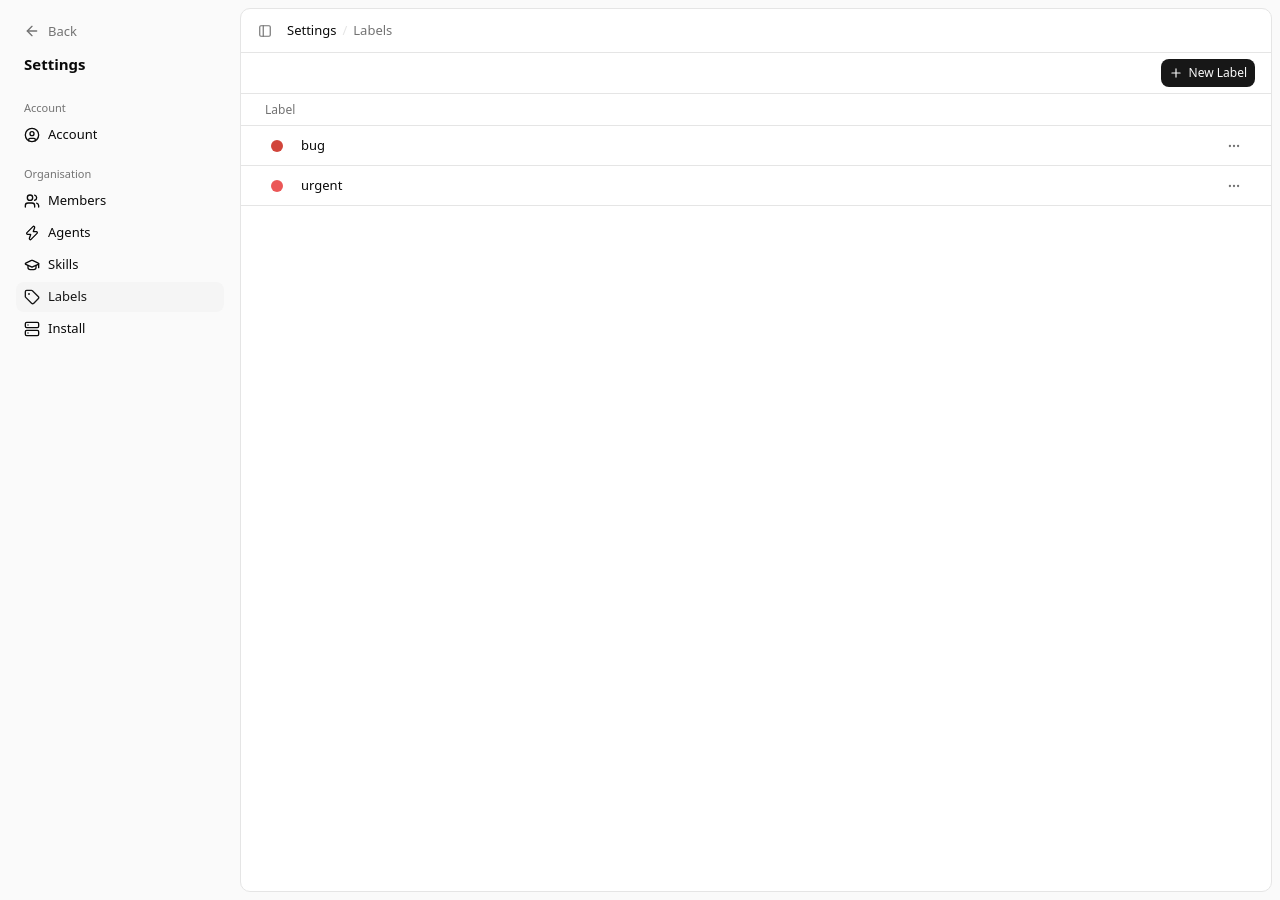
Settings › Organisation › Labels › lists the Labels and makes a new one, coloured the first of the set no Label has
Click the button "New Label" at (1208,73), box top-left (1160, 59), bottom-right (1255, 87)
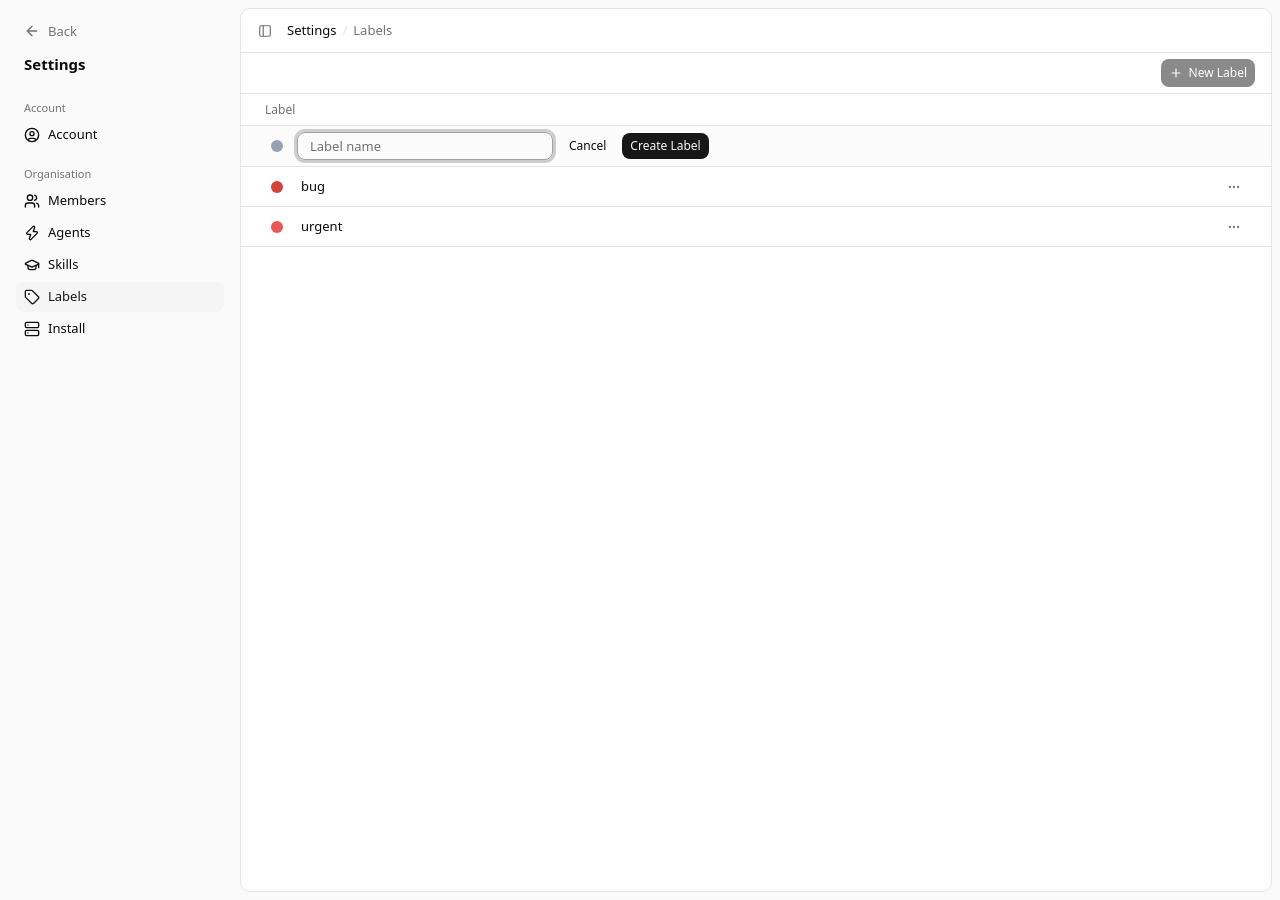
Type "flaky" into the field named "Name of the new Label" at (425,146), box top-left (297, 132), bottom-right (553, 160)
Then press Enter
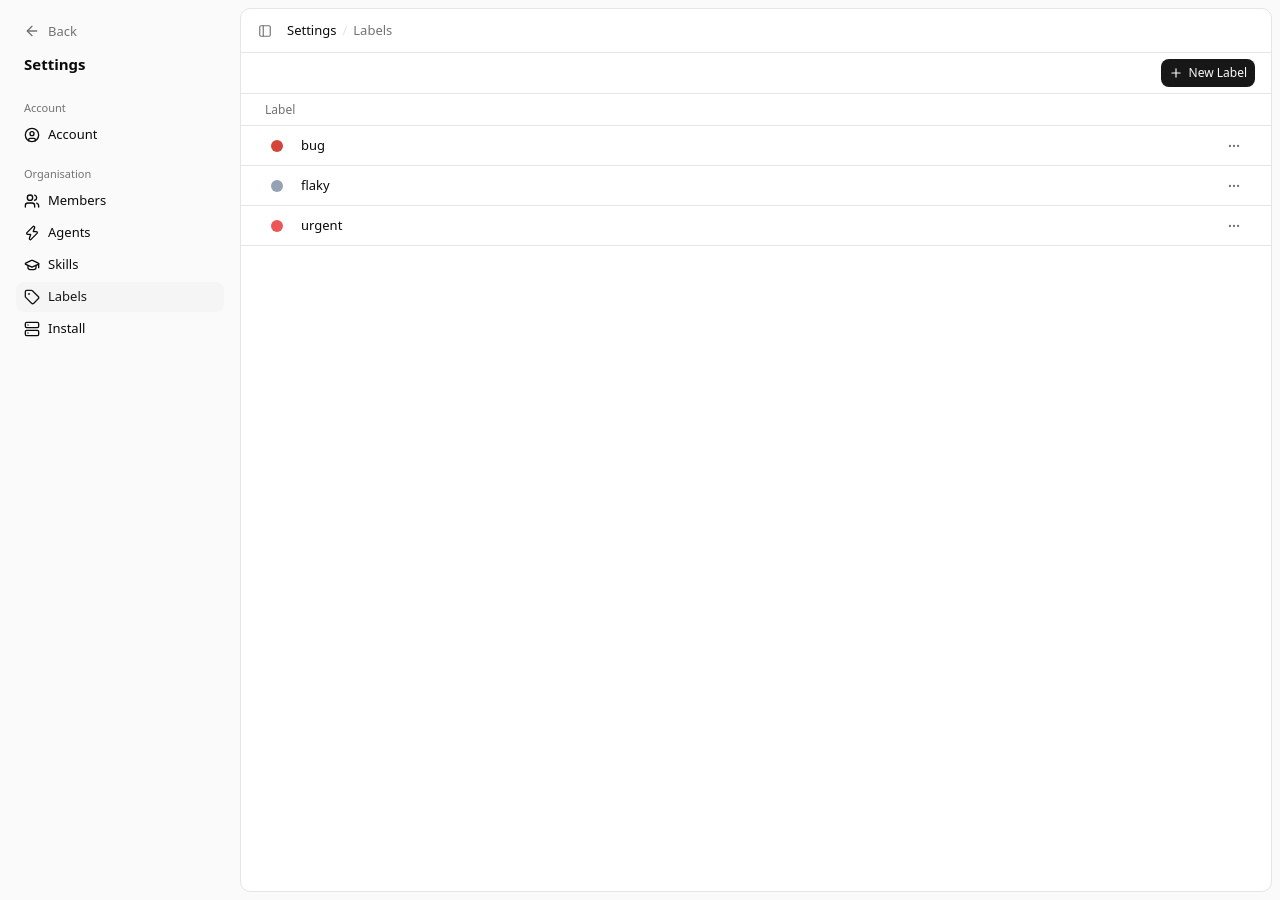
Result: the row "flaky" is shown at top-left (241, 166), bottom-right (1271, 206)
